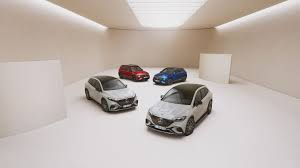car: (146, 83, 213, 135), (85, 75, 138, 113), (156, 66, 188, 85), (118, 65, 153, 82)
